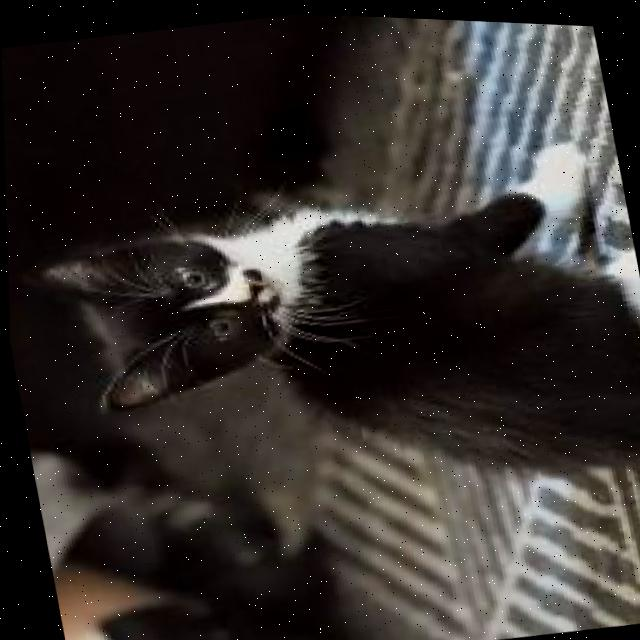Tuxedo: (2, 106, 640, 555)
